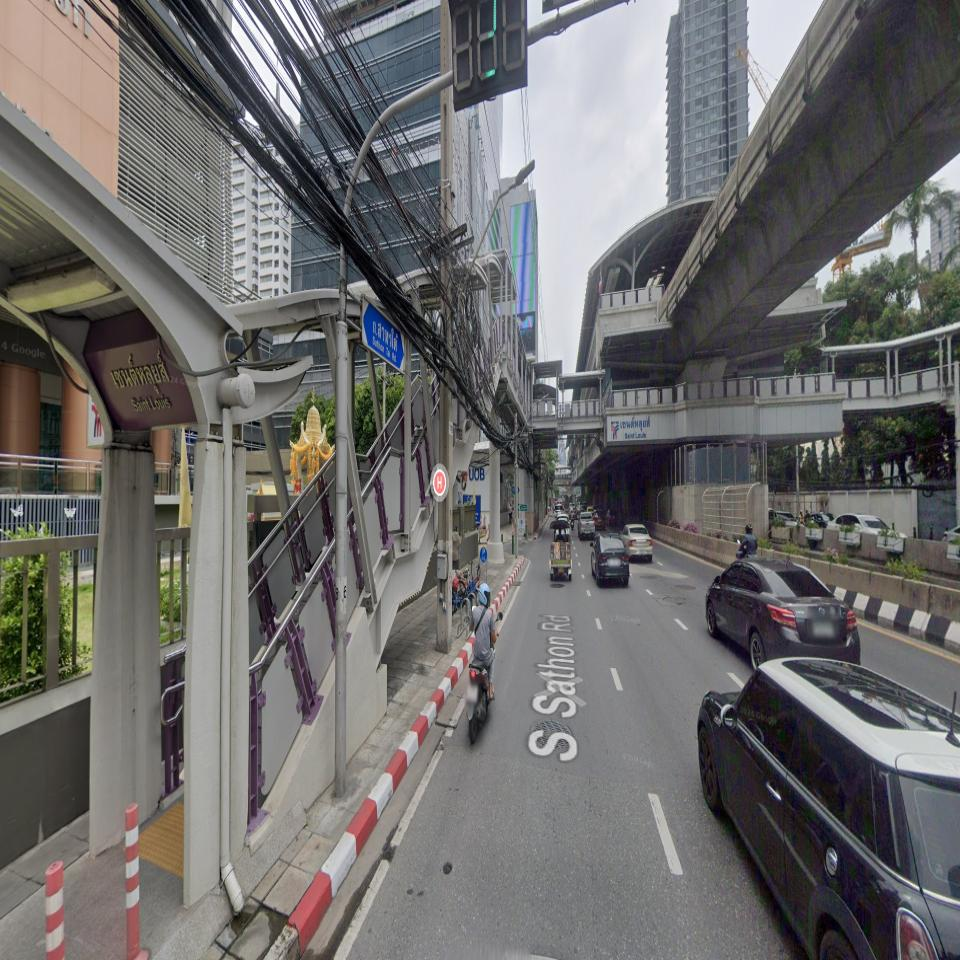Saint Louis: (82, 335, 198, 449), (83, 335, 197, 430), (610, 415, 651, 440), (620, 415, 651, 440)
